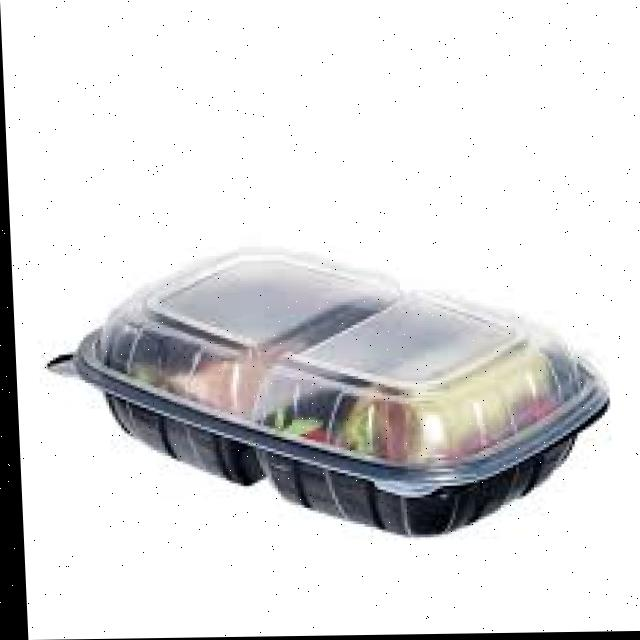disposable: (63, 232, 640, 569)
